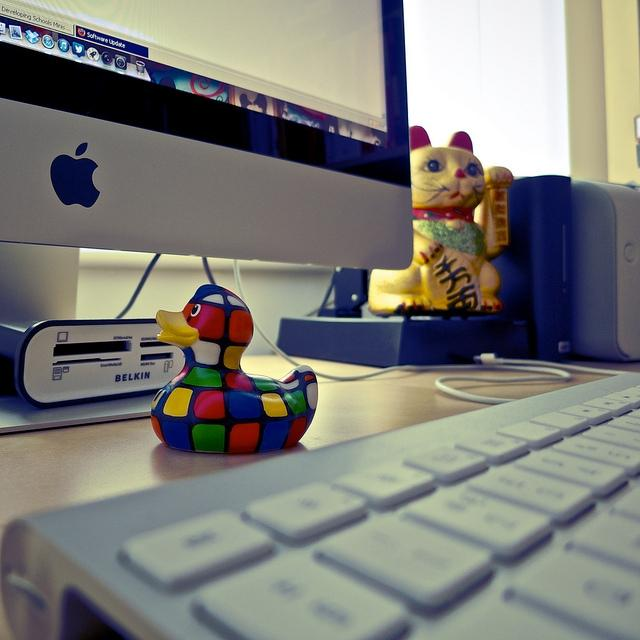apple: (50, 142, 100, 208)
